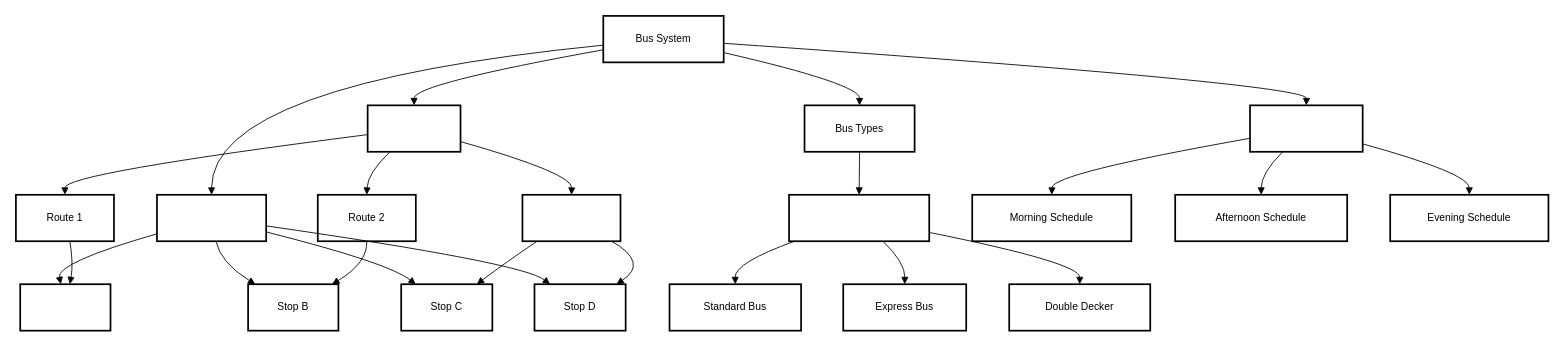
Some shapes in this 1563 by 346 pixel diagram are drawn without their labels. Here are the shapes that lost their labels. From the top down, the centre of each, then its label:
At (x=413, y=128): "Routes".
At (x=1306, y=128): "Schedules".
At (x=211, y=218): "Bus Stops".
At (x=571, y=218): "Route 3".
At (x=859, y=218): "Types of Buses".
At (x=65, y=307): "Stop A".
